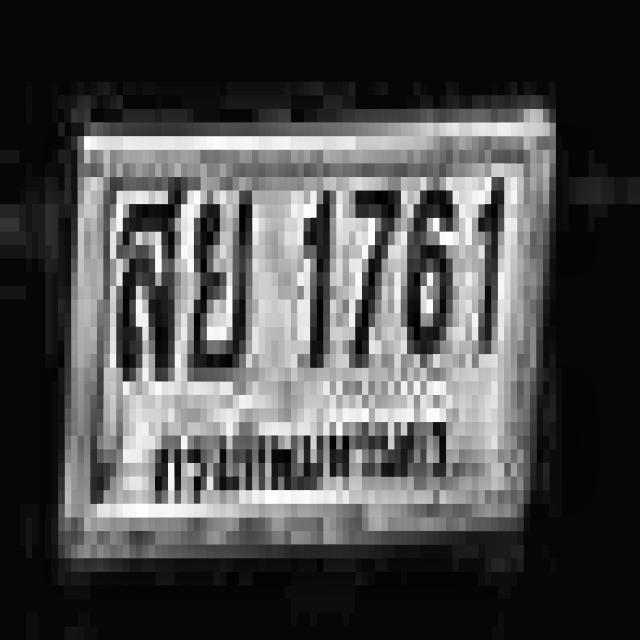license-plate: (48, 75, 574, 579)
